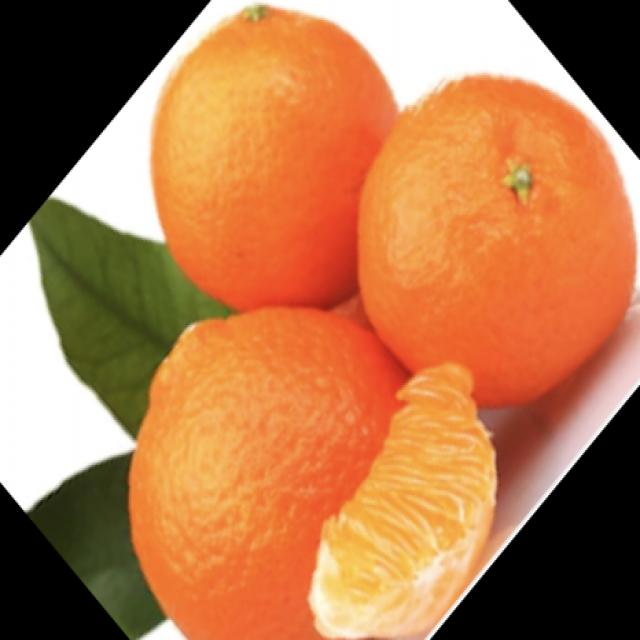fresh: (62, 2, 640, 640)
